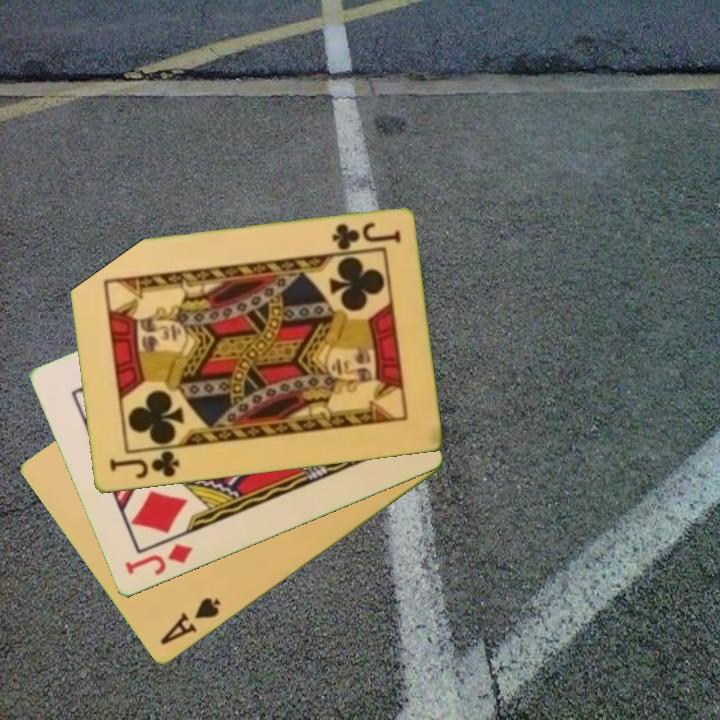As: (156, 594, 224, 649)
Jc: (105, 447, 182, 482), (327, 219, 404, 253)
Jd: (121, 540, 196, 579)
